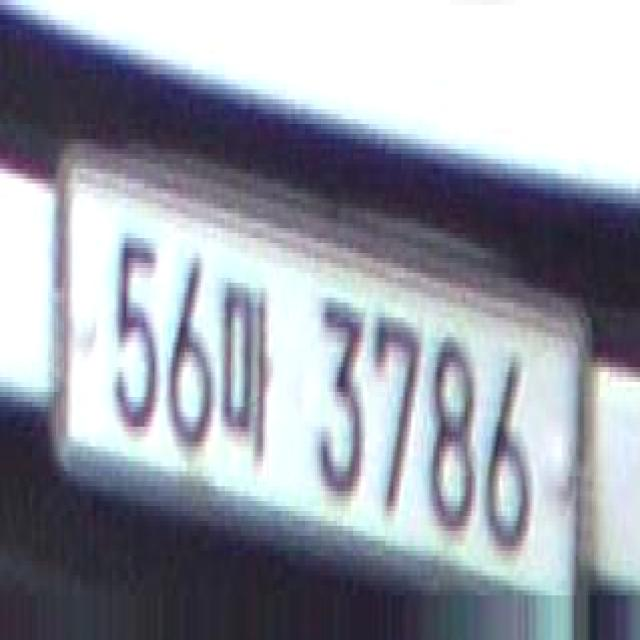illegal_plate: (62, 161, 596, 623)
